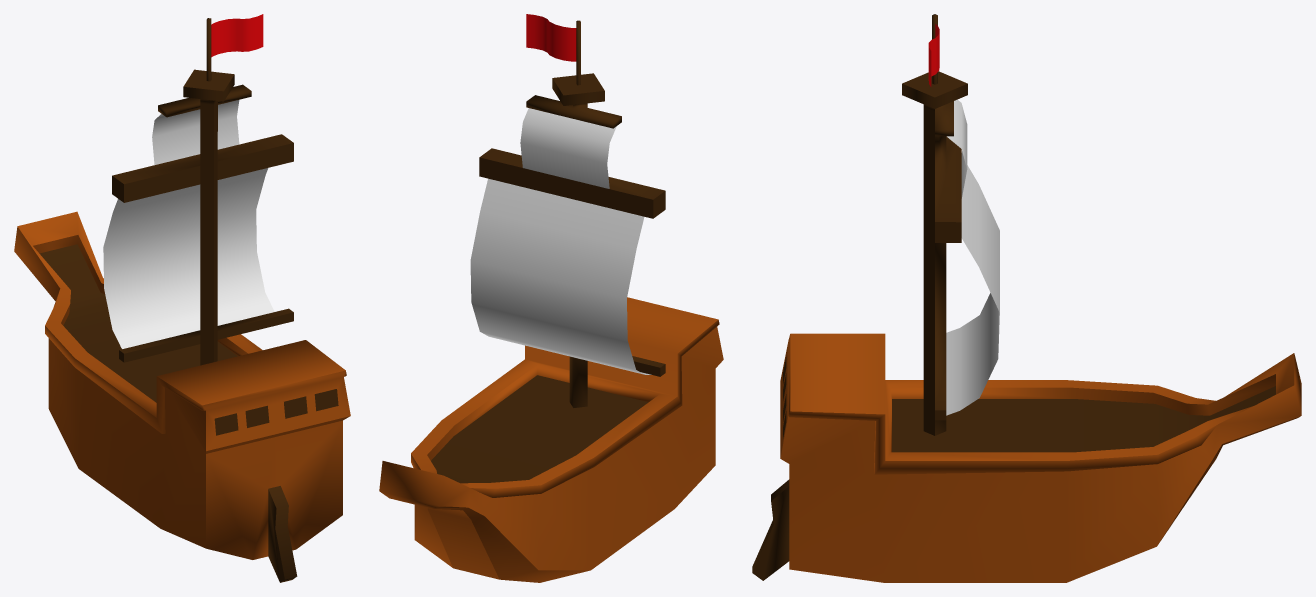
The model's file is Hark.glb.
The picture shows the model from 3 angles, left to right: view 1: azimuth 30°, elevation 25°; view 2: azimuth 150°, elevation 25°; view 3: azimuth 270°, elevation 25°; orthographic projection. The views are drawn at different scales.
Parts seen in each view (by area): view 1: Cube.002_Cube.003; view 2: Cube.002_Cube.003; view 3: Cube.002_Cube.003.
Boxes of the visible parts, bbox=[...] form: Cube.002_Cube.003: bbox=[14, 14, 350, 582]; Cube.002_Cube.003: bbox=[379, 14, 723, 582]; Cube.002_Cube.003: bbox=[752, 14, 1301, 582].
Size of the model in its own units: 0.1684 by 0.4794 by 0.4241.
